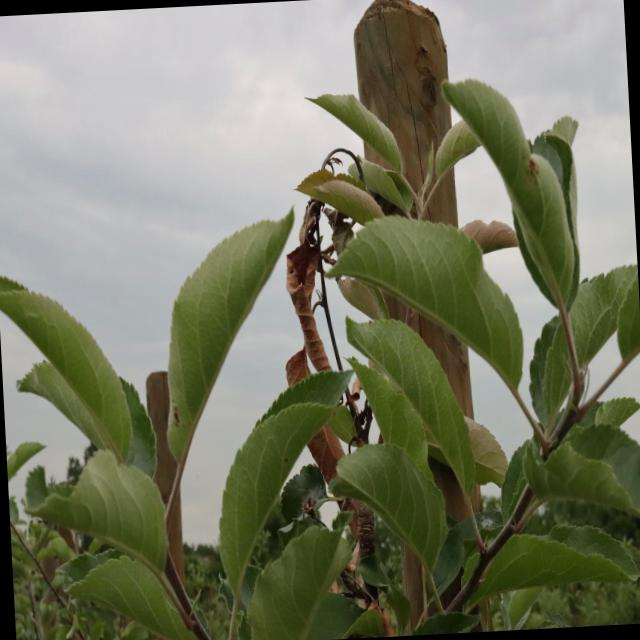-FireBlight-: (289, 358, 359, 522), (284, 188, 336, 382)
